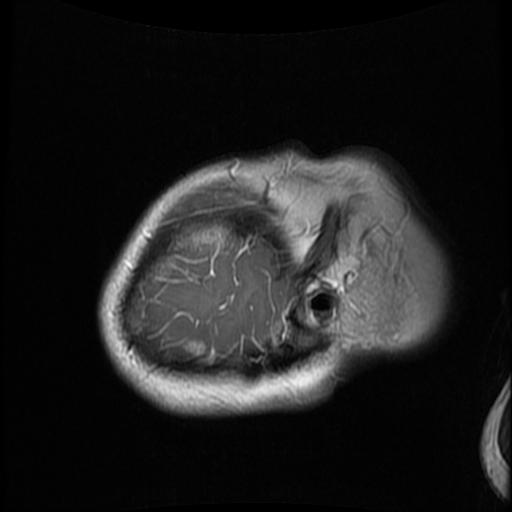glioma: (180, 338, 206, 355)
